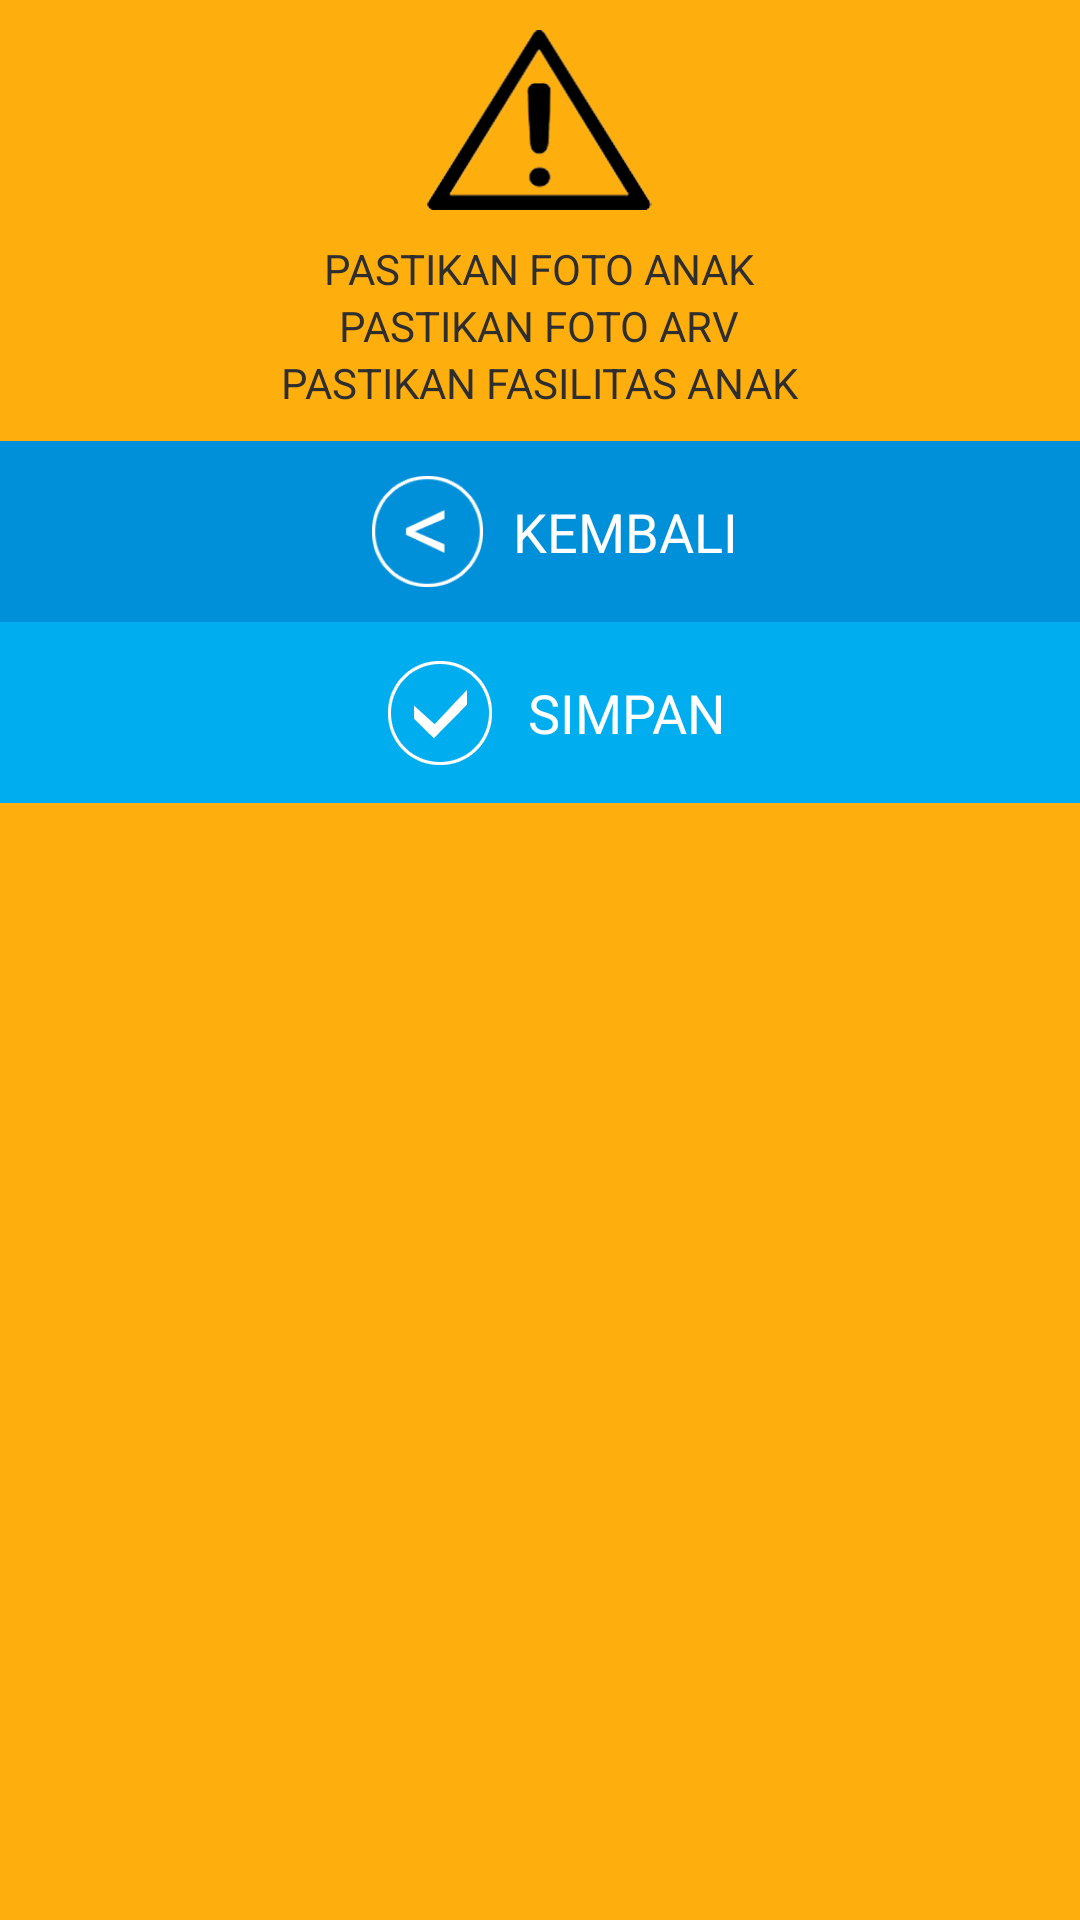

Icons on this 1080 x 1920 Android screen, each with the point to tap as (x,y):
back: (427,531)
centang: (440,713)
warning sign: (539,120)
